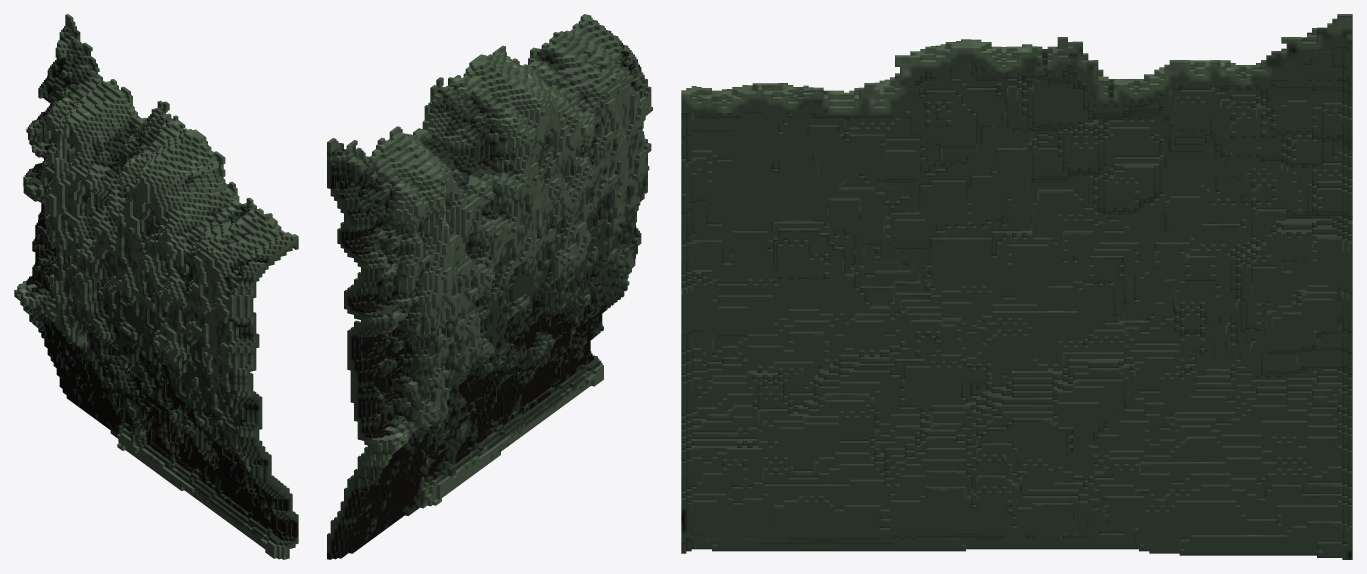
Rendered from treeline01-26-12.fbx.
3 views of the same model, side by side, from view 1: azimuth 30°, elevation 25°; view 2: azimuth 150°, elevation 25°; view 3: azimuth 270°, elevation 25° (orthographic). The views are drawn at different scales.
Parts seen in each view (by area): view 1: treeline01-26-12; view 2: treeline01-26-12; view 3: treeline01-26-12.
Part boxes in pixels (bbox=[...]): treeline01-26-12: bbox=[14, 14, 298, 559]; treeline01-26-12: bbox=[327, 14, 652, 559]; treeline01-26-12: bbox=[681, 14, 1352, 559].
Size of the model in its own units: 23 by 118 by 132.
